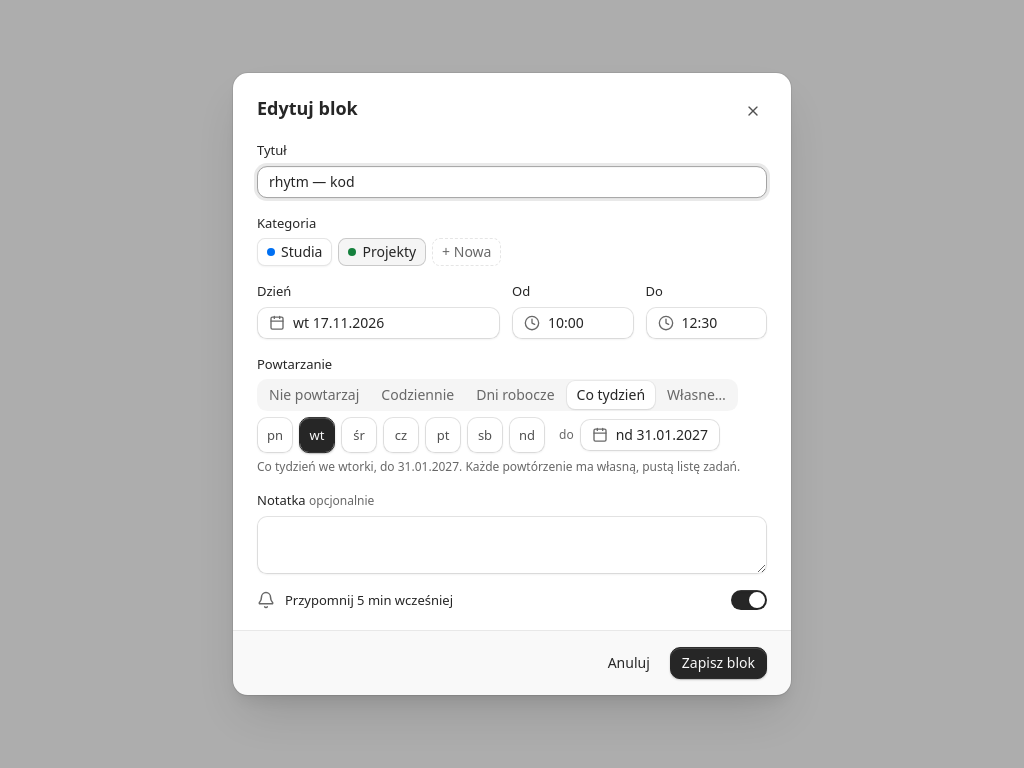
BlockDialog › zmiana dnia poza pierwszym wystąpieniem wyłącza „To i następne” z podpowiedzią
Click the button with aria-label "Dzień" at (378, 323), box [257, 307, 500, 339]
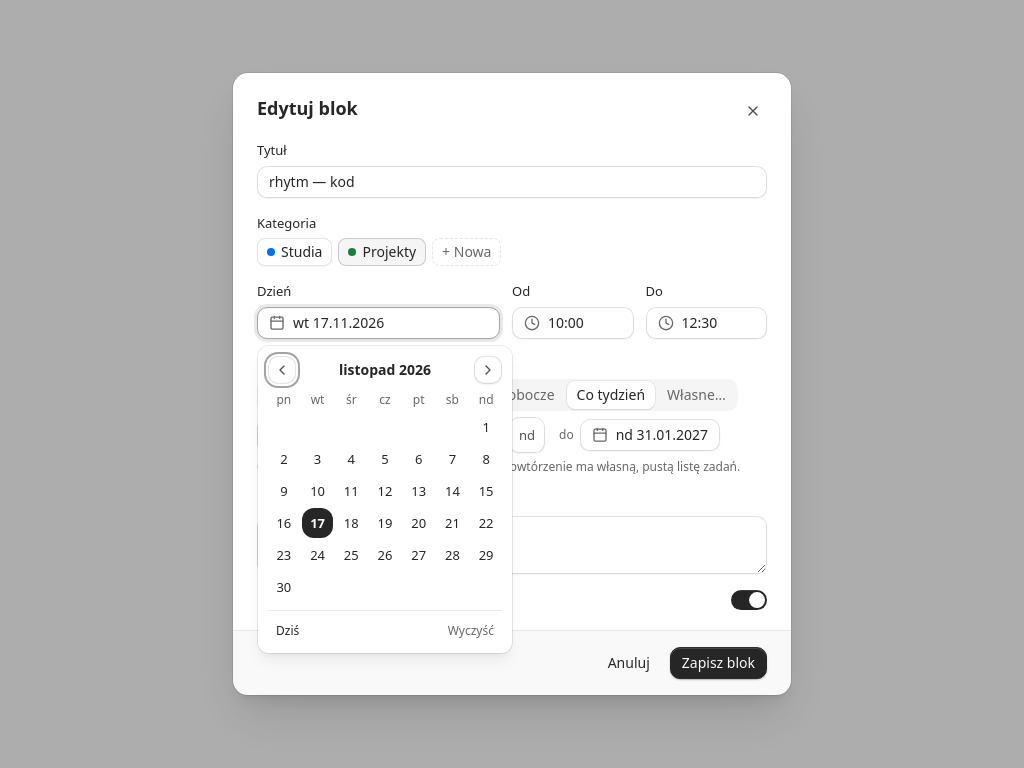
Click the button "18" at (351, 523), box [335, 508, 367, 538]
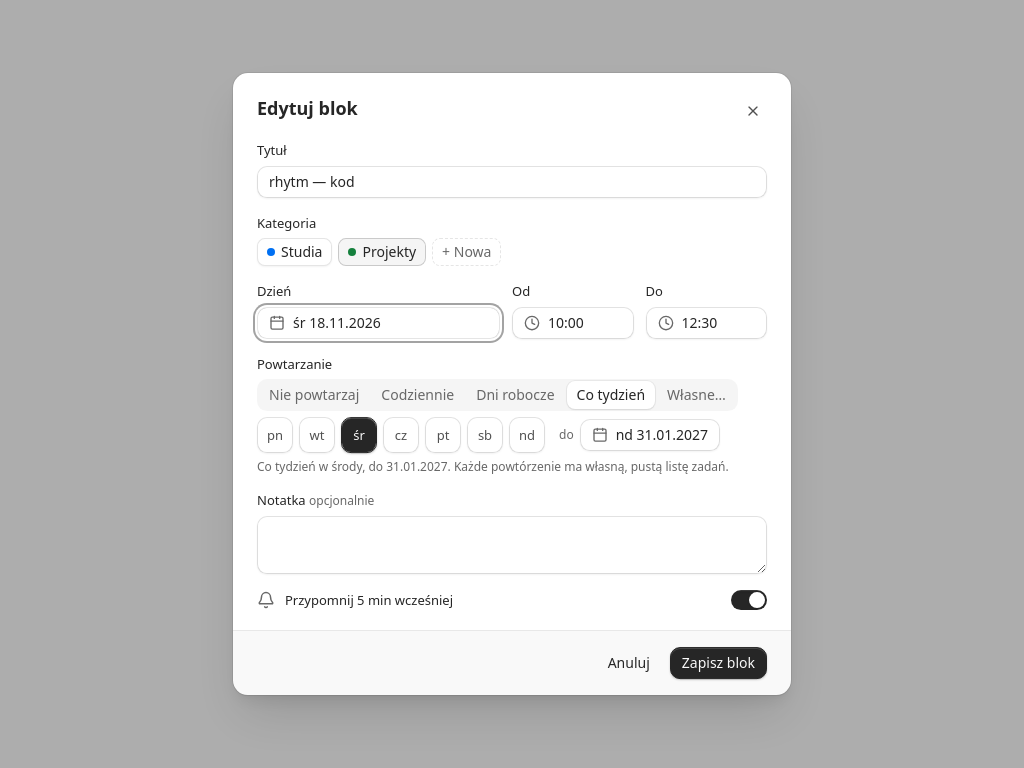
Click the button "Zapisz blok" at (718, 663), box [670, 647, 767, 679]
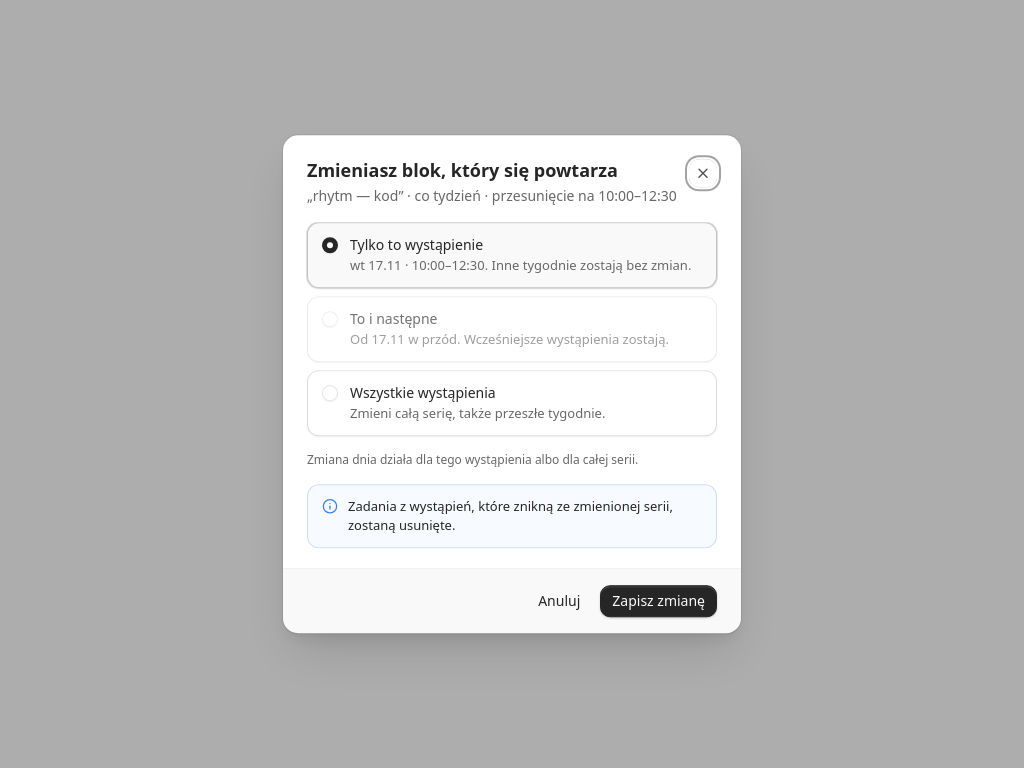
Expected: the radio button labelled "Tylko to wystąpienie" is enabled, [322, 238, 338, 254]
Expected: the text "Zmiana dnia działa dla tego wystąpienia albo dla całej serii." is shown, [307, 452, 638, 469]
